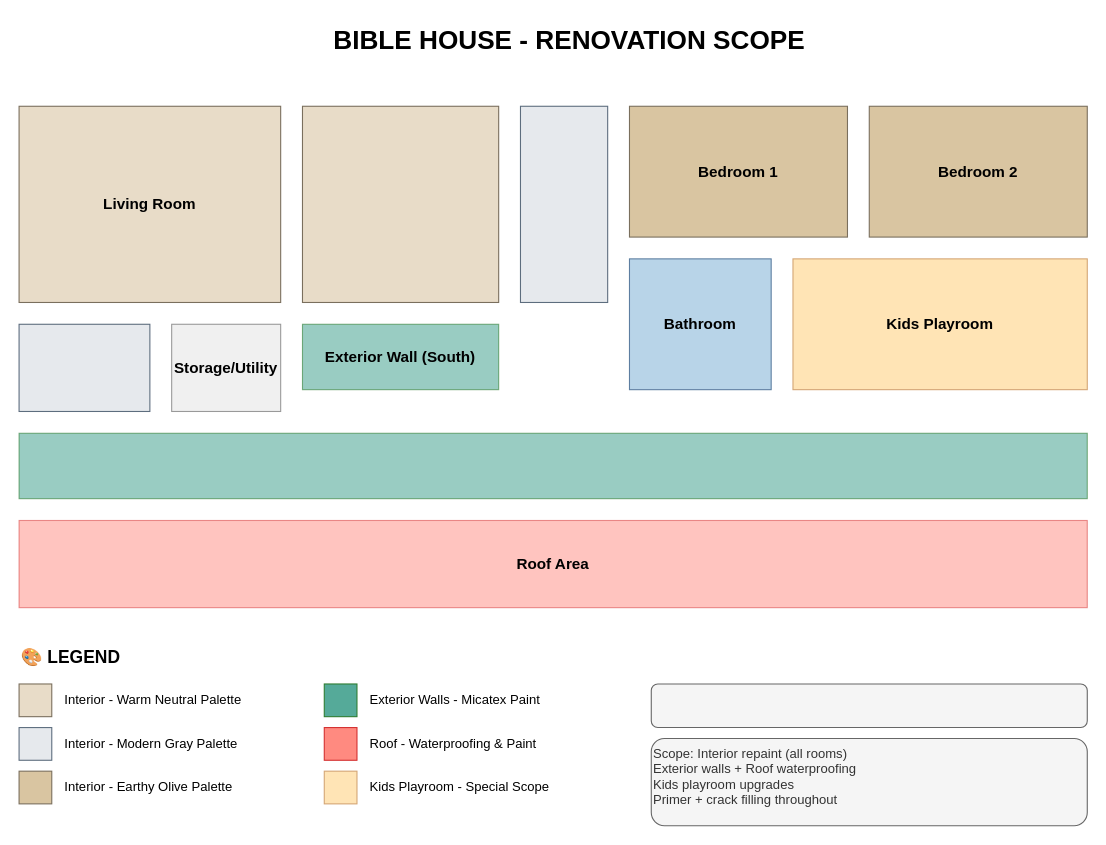
Some shapes in this 1106 by 845 pixel diagram are drawn without their labels. Here are the shapes that lost their labels. From the top down, the centre of each, then its label:
the point at 400,203: Kitchen/Dining
the point at 563,203: Hallway
the point at 84,367: Entrance
the point at 552,465: Exterior Wall (North)
the point at 868,705: 📋 Estimate #40 | 26 Oct 2025 | R 95,600
